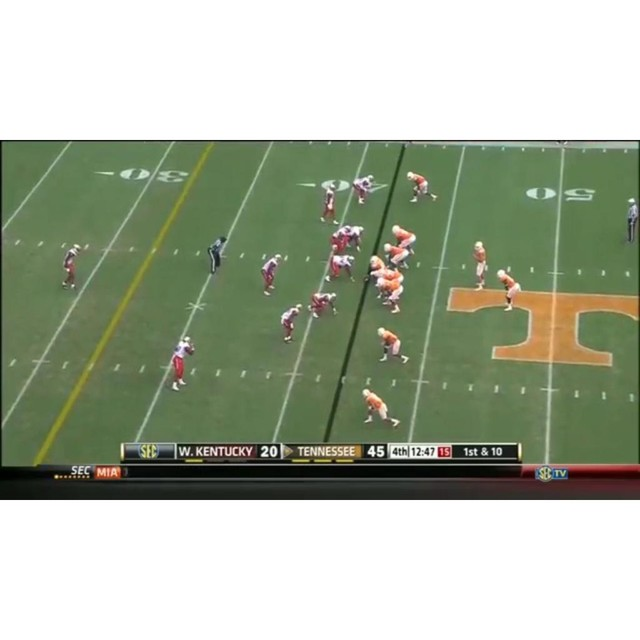american-football-player: (361, 388, 400, 429), (168, 336, 195, 391), (376, 327, 409, 364), (497, 268, 521, 311), (406, 171, 438, 203), (61, 244, 83, 290), (377, 278, 404, 315), (260, 253, 282, 296), (279, 302, 302, 343), (325, 255, 356, 284), (308, 291, 338, 319), (392, 224, 417, 257), (320, 182, 339, 225), (471, 241, 488, 289), (383, 242, 409, 271), (352, 174, 374, 205), (343, 225, 365, 254)
referee: (208, 235, 227, 275), (625, 197, 639, 244)
